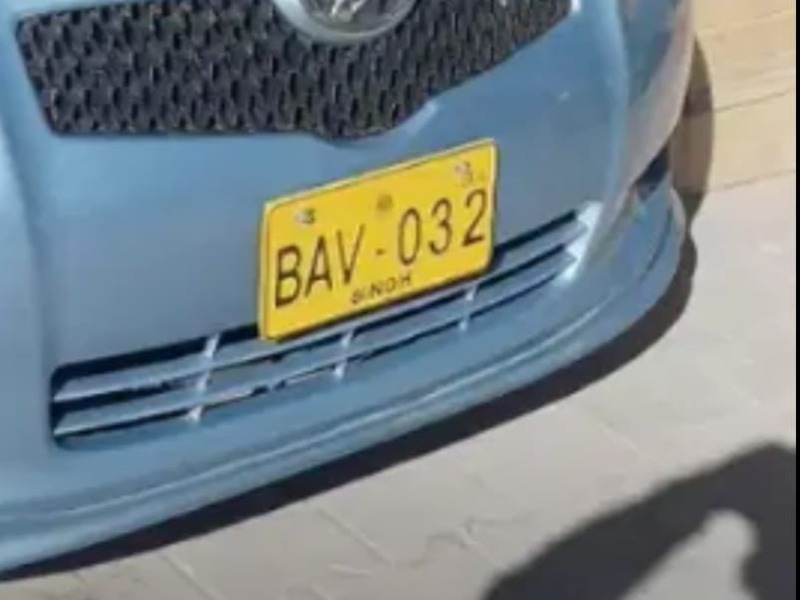License Plate: (260, 139, 491, 347)
